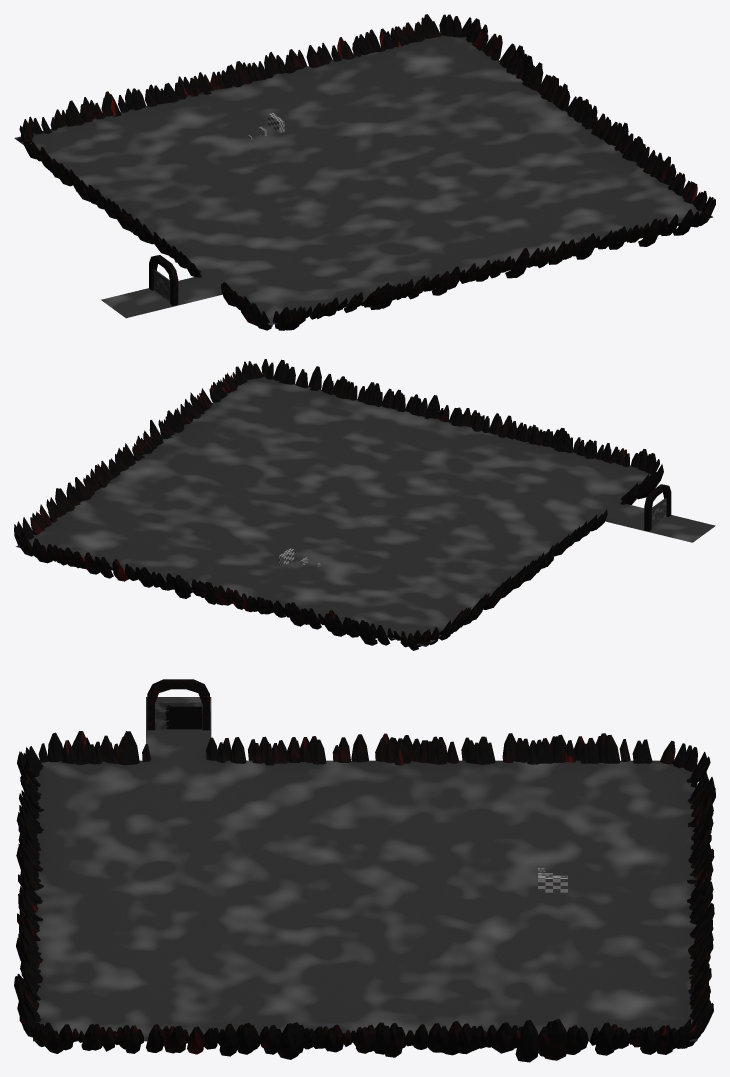
File: PlaceholderScene_230915.fbx
The picture shows the model from 3 angles, top to bottom: view 1: azimuth 30°, elevation 25°; view 2: azimuth 150°, elevation 25°; view 3: azimuth 270°, elevation 25°; orthographic projection. The views are drawn at different scales.
Parts seen in each view (by area): view 1: Ground, Walls, Arch; view 2: Ground, Walls, Arch; view 3: Ground, Walls, Gate, Arch.
Boxes of the visible parts, x1,y1,x2,y2 form: Ground: (14, 35, 712, 325); Walls: (19, 14, 715, 330); Arch: (149, 255, 178, 305); Ground: (16, 377, 715, 646); Walls: (14, 359, 663, 650); Arch: (644, 484, 671, 531); Ground: (33, 697, 697, 1041); Walls: (14, 731, 715, 1062); Gate: (155, 702, 201, 729); Arch: (147, 679, 209, 730).
Bounding box in the file's own units: 157 × 15.48 × 132.
